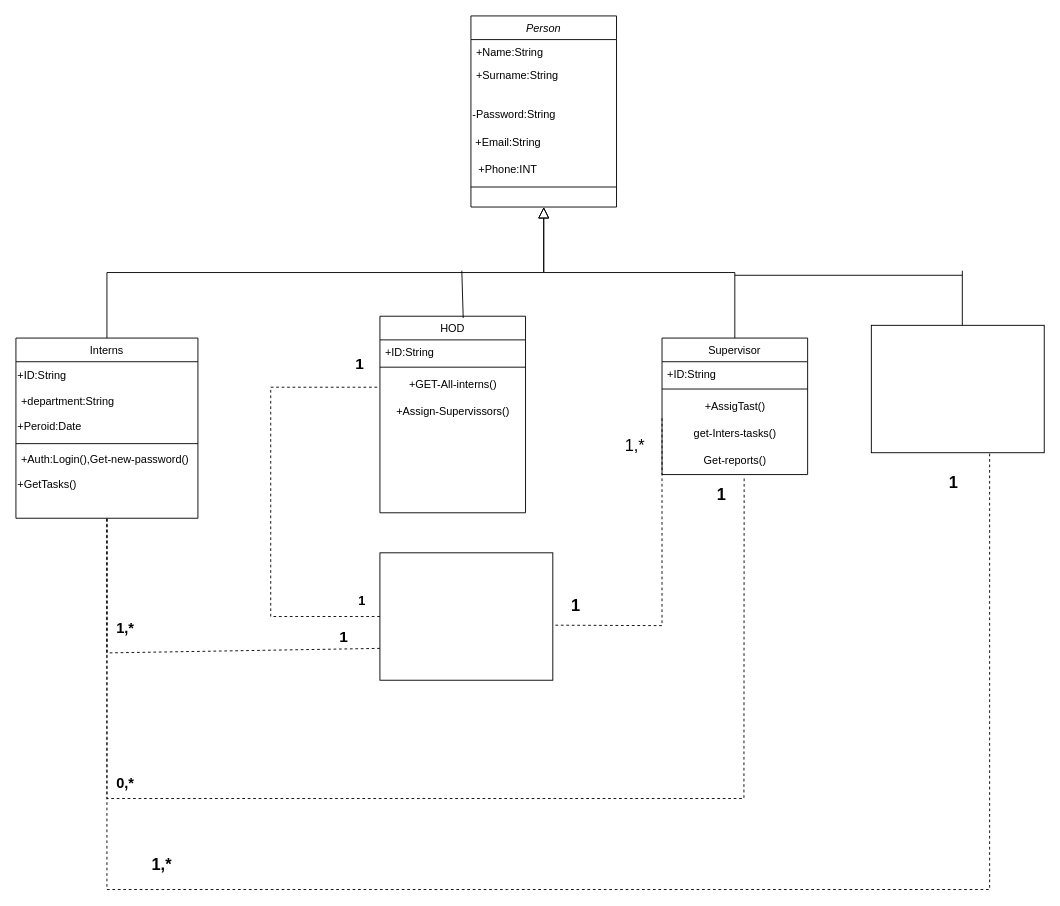
Some shapes in this 1060 by 906 pixel diagram are drawn without their labels. The centre of each missing label's shape, as x and y in pixels:
Department +ID:String +Name:String: (x=466, y=616)
HRM +ID:String + assign-dent-to-student(): + Register-Interns(): (x=957, y=388)
